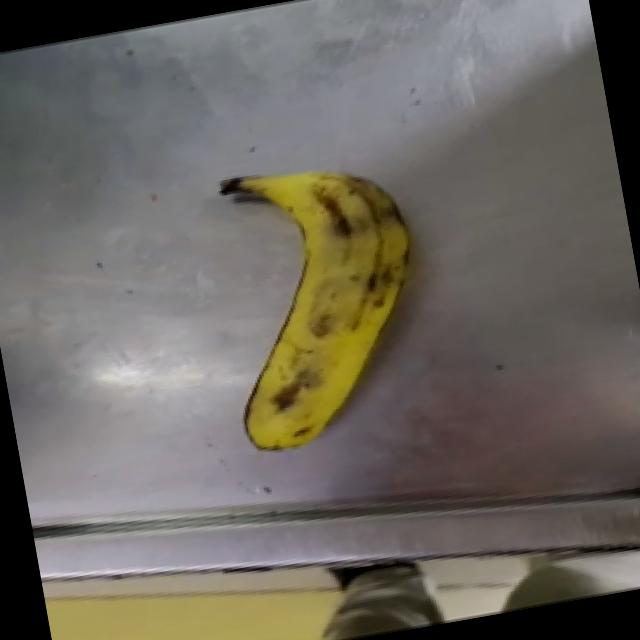Rotten_Banana: (172, 122, 466, 471)
